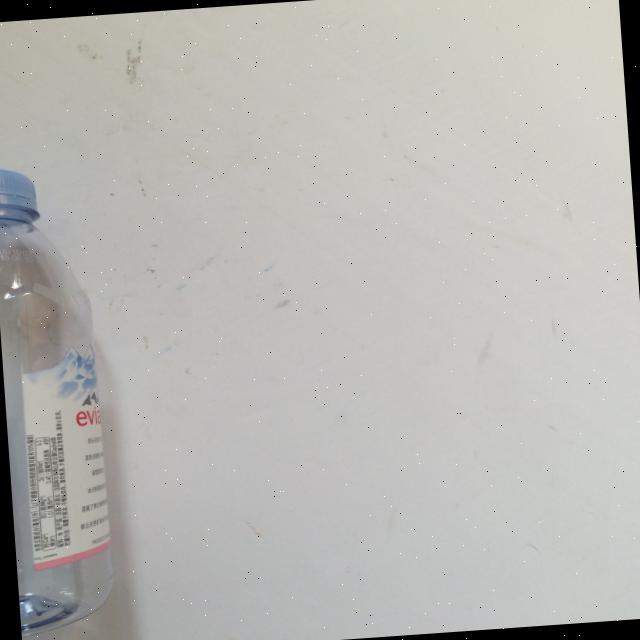plastic: (0, 161, 119, 636)
